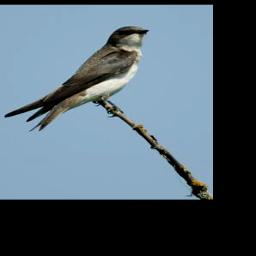Swallow: (4, 25, 150, 132)
